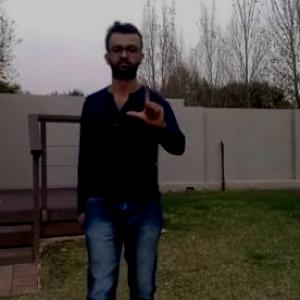land_hand: (126, 74, 169, 133)
